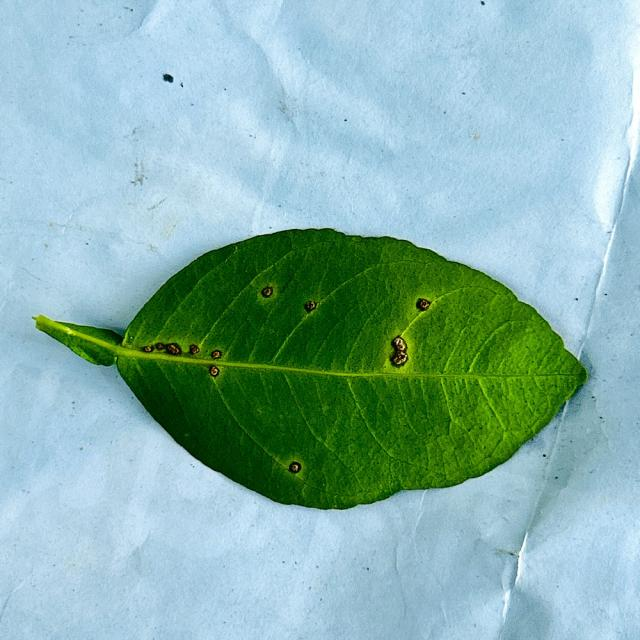Anthracnose: (383, 298, 431, 372), (145, 341, 217, 377), (258, 281, 324, 312), (142, 342, 187, 356), (291, 459, 302, 469)
Lemon: (32, 229, 588, 512)
